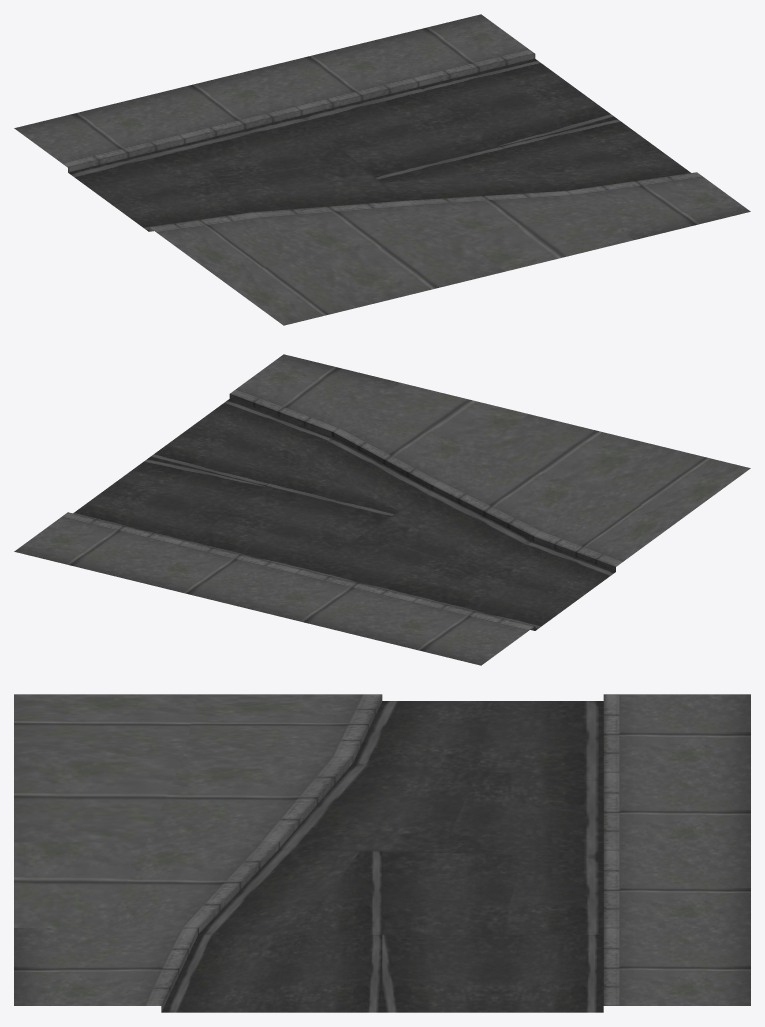
Rendered from roadconverter.fbx.
The picture shows the model from 3 angles, top to bottom: view 1: azimuth 30°, elevation 25°; view 2: azimuth 150°, elevation 25°; view 3: azimuth 270°, elevation 25°; orthographic projection. The views are drawn at different scales.
Parts seen in each view (by area): view 1: roadconverter; view 2: roadconverter; view 3: roadconverter.
Part boxes in pixels (x1=…): roadconverter: x1=14, y1=14, x2=750, y2=325; roadconverter: x1=14, y1=354, x2=750, y2=665; roadconverter: x1=14, y1=694, x2=750, y2=1012.
Bounding box in the file's own units: 2000 × 2000 × 20.
1 material, 1 textured.
